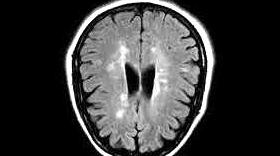Normal_Brain: (52, 1, 221, 156)
